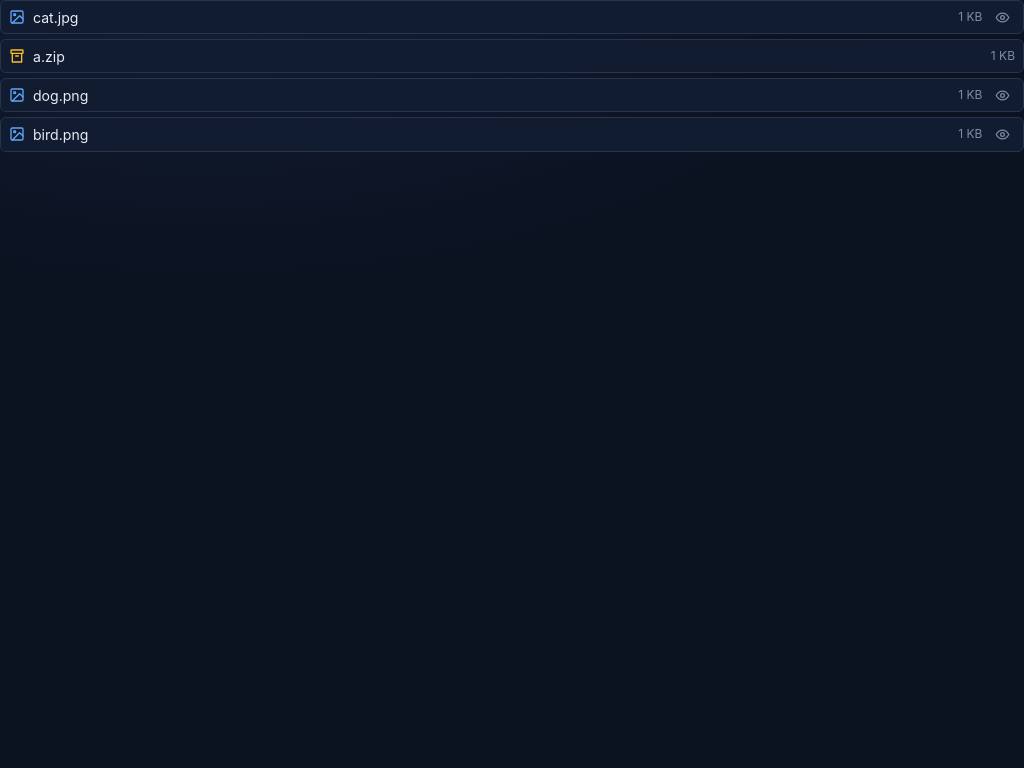
Test: KBR-93: attachment image preview › cycles sibling images as a slideshow (arrows + keyboard, wrap-around), skipping non-images
# Open on the SECOND image — the lightbox must start there, counting images only.
Click the button named "Preview dog.png".
click(1003, 95)  # box x1=990 y1=85 x2=1015 y2=105
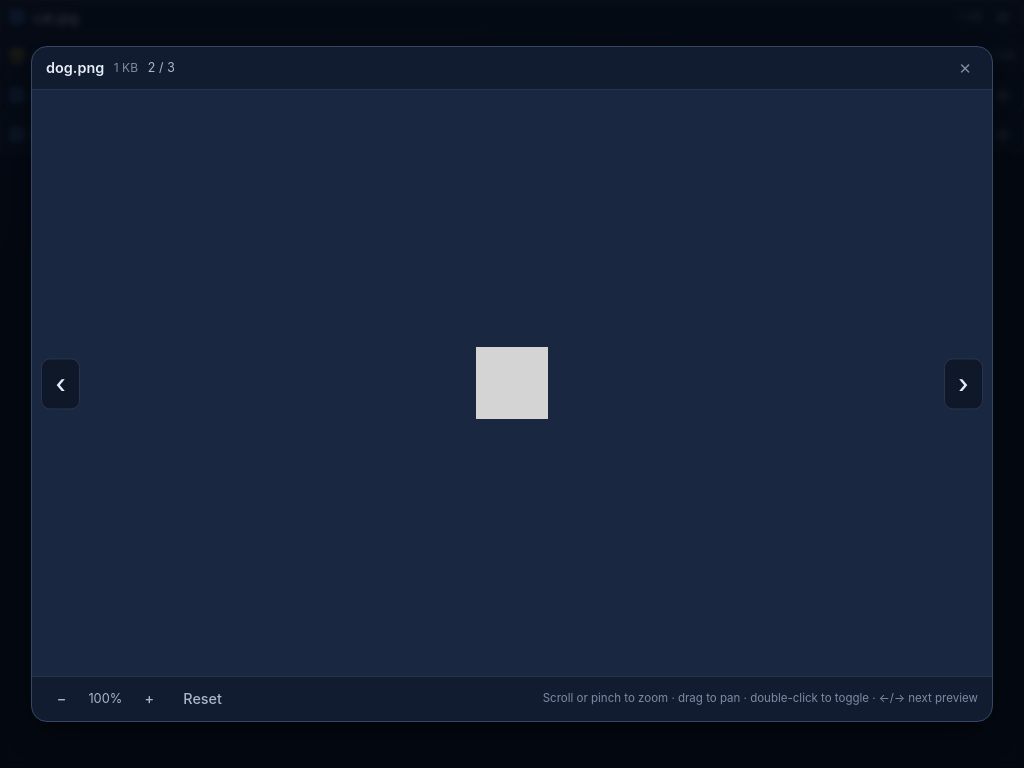
Result: the dialog named "Preview of dog.png" is shown
Result: the text "2 / 3" is shown at x1=148 y1=59 x2=175 y2=78
Click the button named "Next preview".
click(964, 384)  # box x1=944 y1=358 x2=983 y2=410
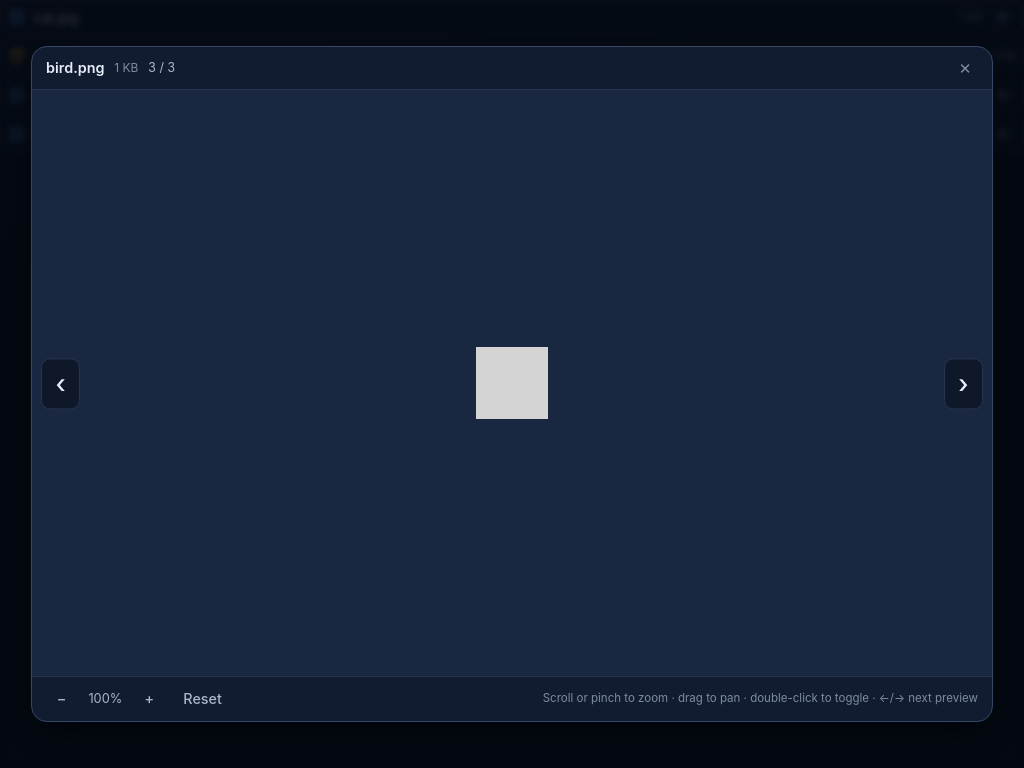
Result: the dialog named "Preview of bird.png" is shown
Click the button named "Next preview".
click(964, 384)  # box x1=944 y1=358 x2=983 y2=410
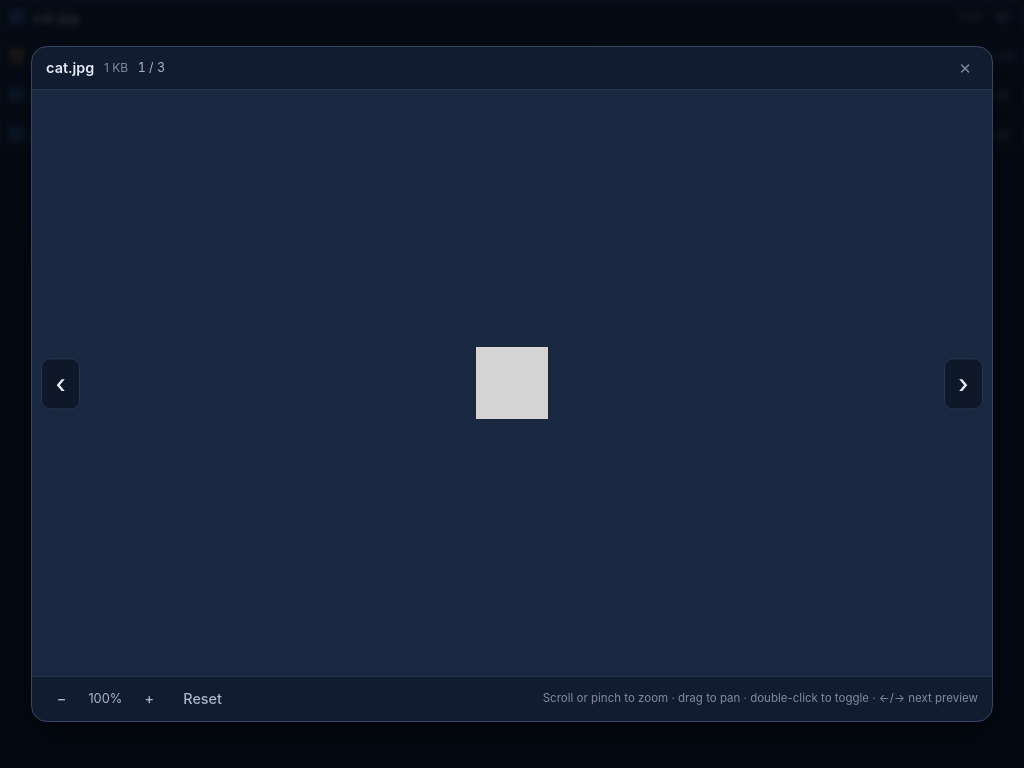
Result: the dialog named "Preview of cat.jpg" is shown
Result: the text "1 / 3" is shown at x1=138 y1=59 x2=165 y2=78
Press ArrowLeft
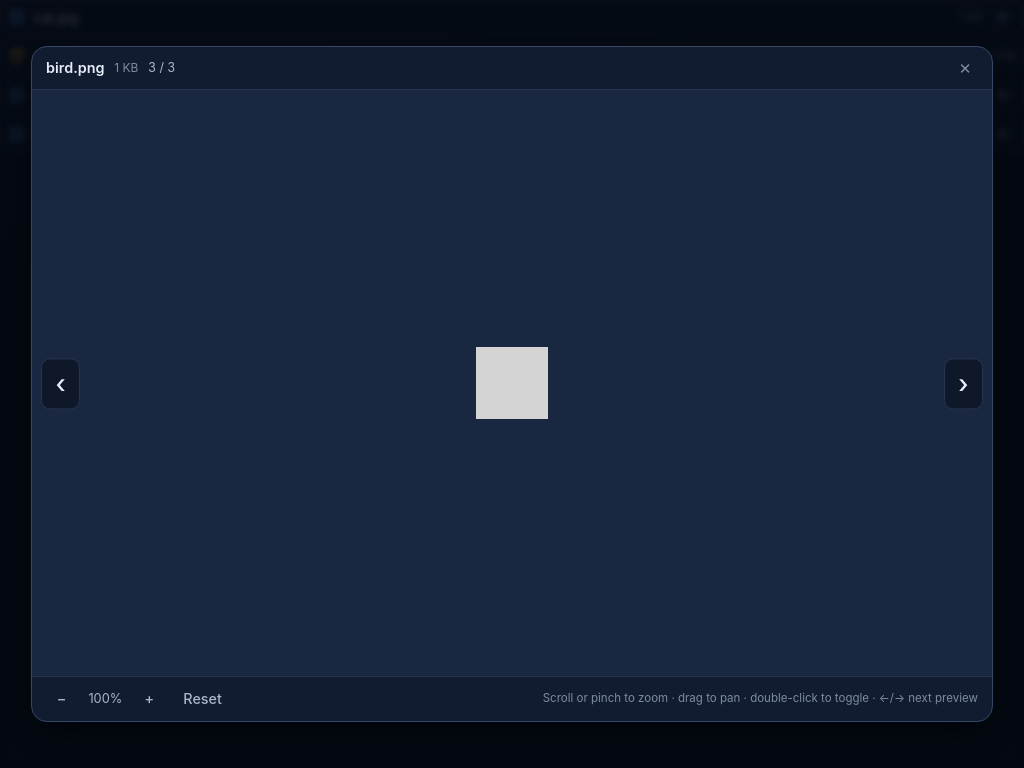
Result: the dialog named "Preview of bird.png" is shown
Press ArrowRight
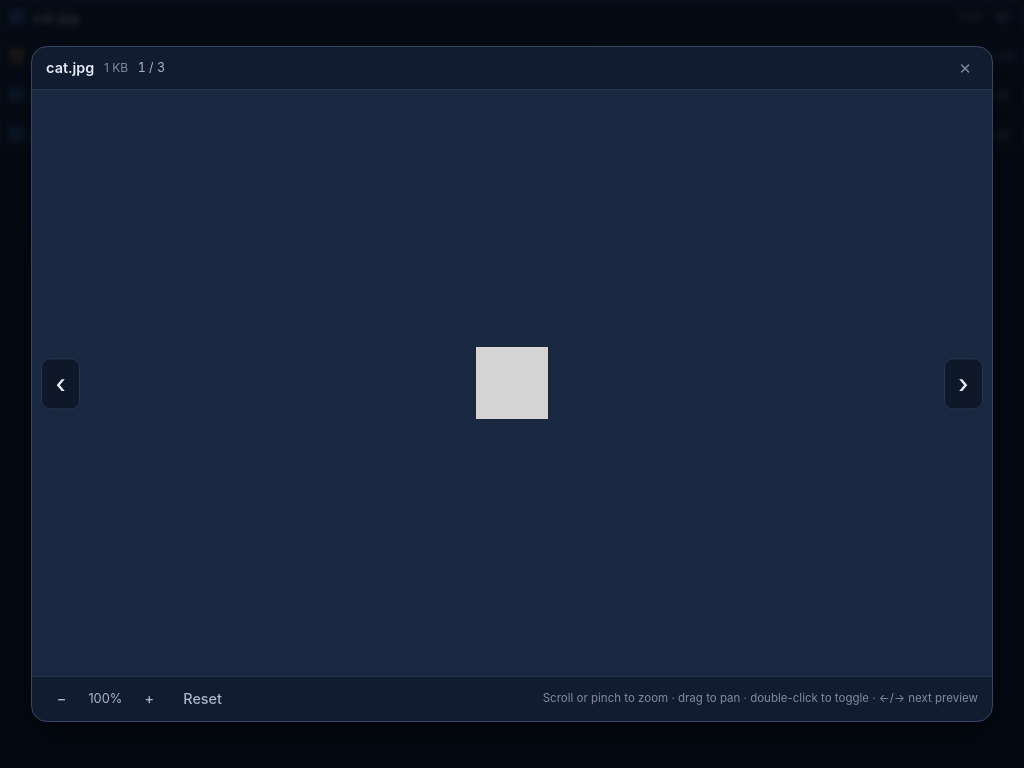
Result: the dialog named "Preview of cat.jpg" is shown
